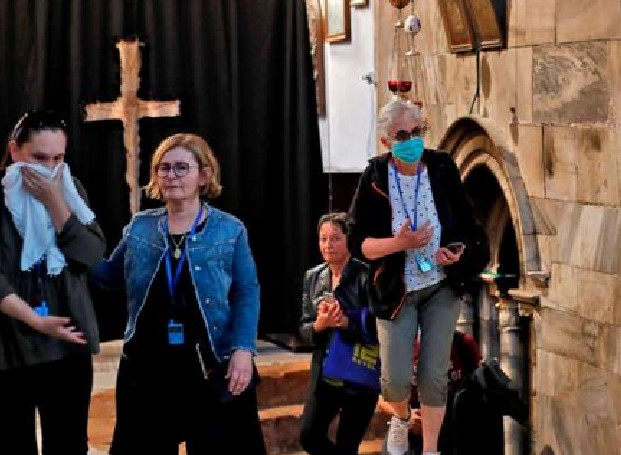face_no_mask: (151, 137, 208, 207), (317, 215, 350, 262)
face_with_mask: (378, 100, 427, 165)
